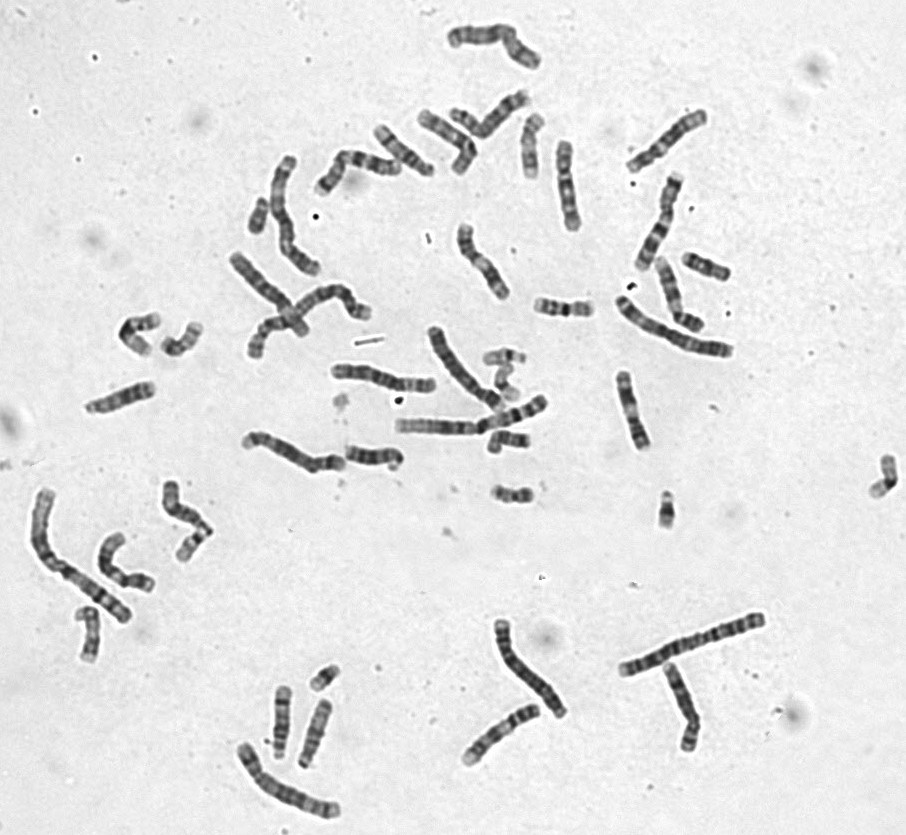chromosomes: (23, 482, 137, 628), (613, 600, 780, 682), (237, 280, 379, 367), (227, 737, 347, 830), (485, 614, 572, 725), (219, 244, 318, 341), (614, 291, 741, 362), (266, 145, 328, 285), (422, 320, 509, 418), (618, 99, 715, 183), (225, 419, 353, 482), (387, 391, 551, 438), (449, 698, 546, 772), (630, 166, 689, 278), (659, 654, 715, 767), (451, 210, 515, 307), (442, 19, 547, 77), (410, 104, 483, 182), (307, 147, 409, 202), (447, 82, 537, 144), (323, 356, 444, 399), (91, 528, 162, 597), (651, 251, 706, 336), (368, 117, 441, 181), (606, 366, 655, 461), (68, 376, 166, 419), (103, 301, 169, 362), (847, 442, 906, 510), (553, 136, 590, 240), (292, 693, 337, 778), (151, 469, 212, 527), (527, 287, 605, 327), (263, 673, 295, 768), (64, 601, 107, 667), (341, 438, 411, 477), (512, 107, 549, 180), (174, 518, 221, 568), (484, 474, 543, 513), (165, 314, 211, 362), (481, 426, 538, 463), (683, 247, 734, 288), (650, 485, 686, 540), (234, 191, 273, 241), (473, 340, 536, 367), (302, 662, 353, 694), (492, 362, 526, 406)
